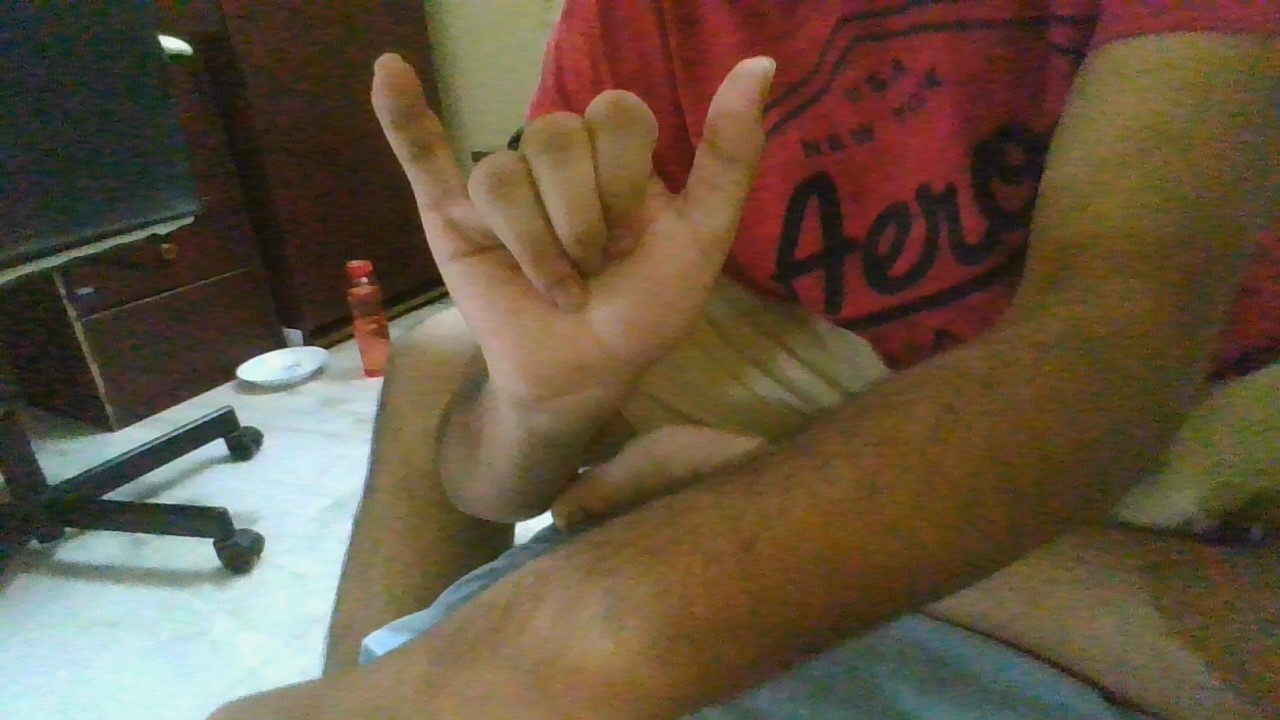y: (363, 40, 781, 396)
